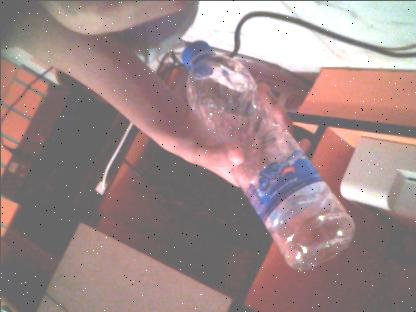Plastic Bottle: (177, 37, 353, 268)
